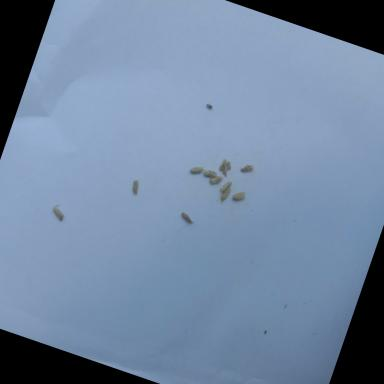pbw: (50, 202, 67, 220), (232, 188, 248, 204), (239, 160, 256, 175), (178, 210, 196, 224), (130, 178, 142, 196), (209, 172, 224, 186), (220, 185, 232, 202), (219, 178, 232, 193), (190, 164, 206, 176), (203, 168, 218, 179), (219, 166, 230, 177), (221, 157, 229, 168), (206, 103, 213, 109)
